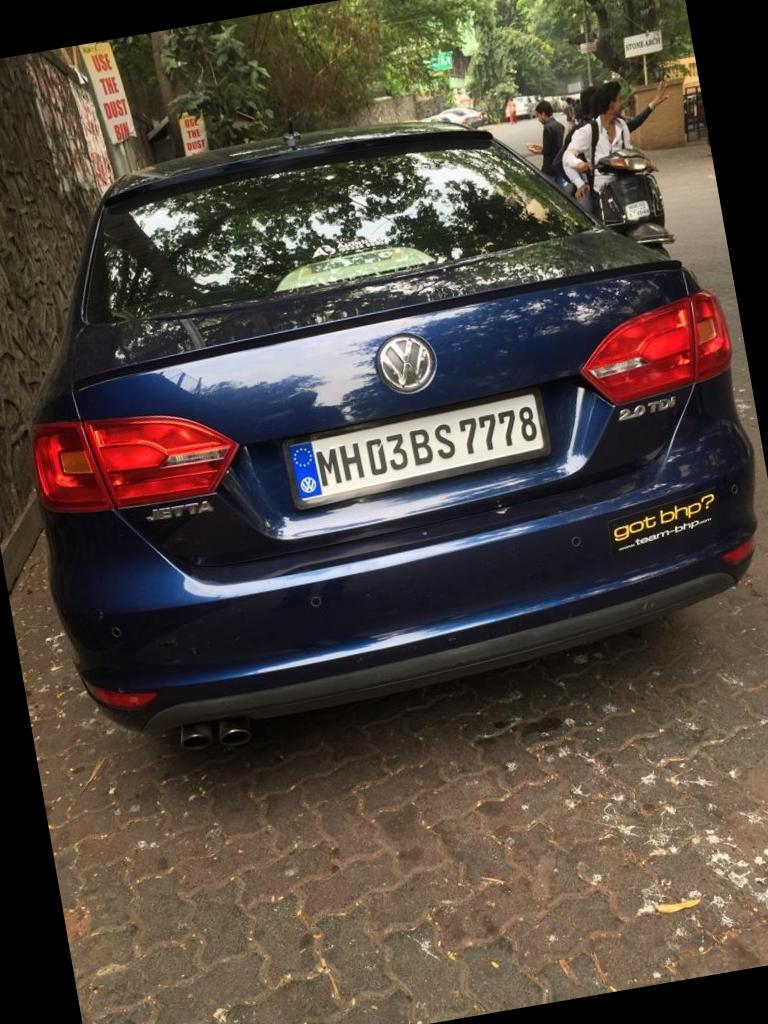plate: (274, 392, 566, 512)
